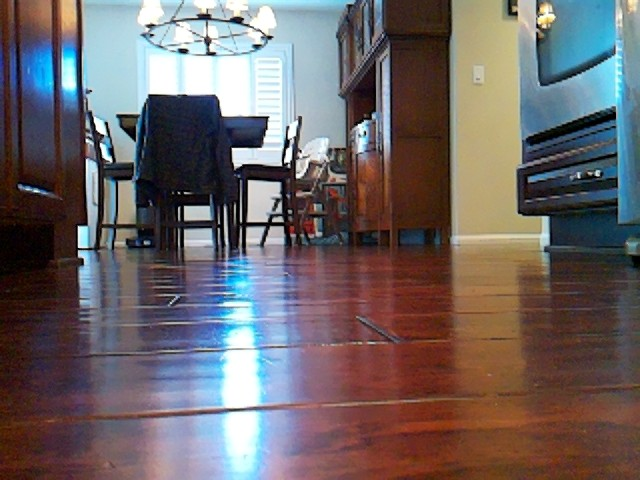Drivable Area: (3, 273, 640, 480), (88, 252, 516, 277)
Obstacle: (519, 0, 640, 258), (335, 0, 453, 247), (0, 0, 83, 262)
